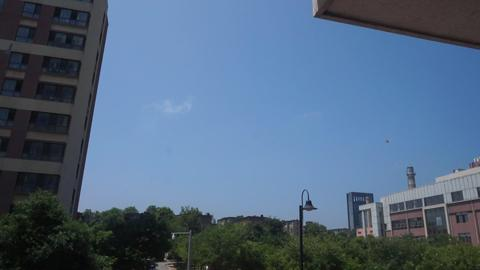UAV: (384, 139, 392, 144)
